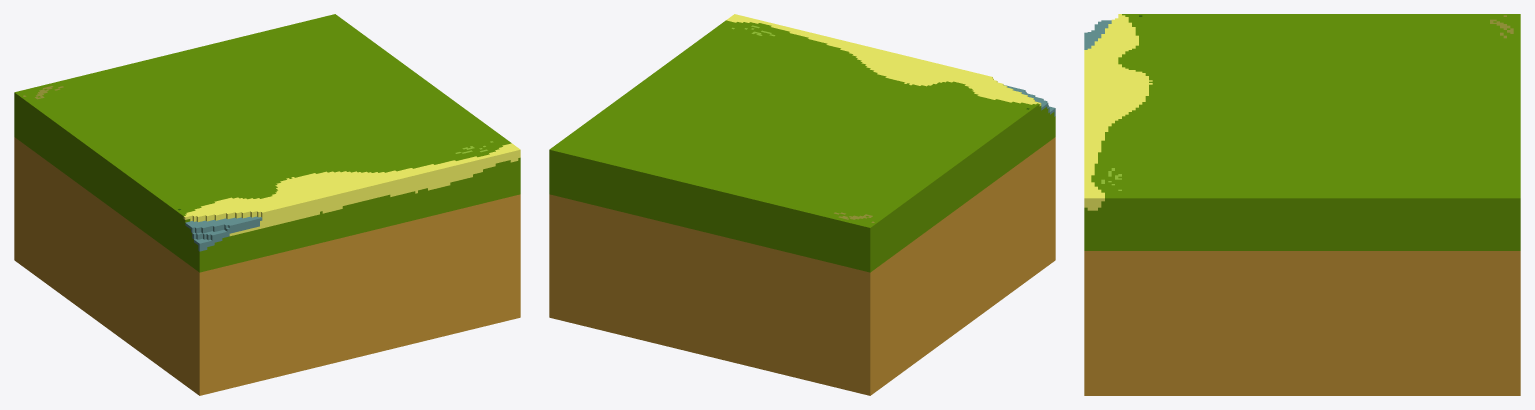
3 renders of one model, left to right at view 1: azimuth 30°, elevation 25°; view 2: azimuth 150°, elevation 25°; view 3: azimuth 270°, elevation 25°, orthographic. The views are drawn at different scales.
Parts seen in each view (by area): view 1: 10I; view 2: 10I; view 3: 10I.
Boxes of the visible parts, x1,y1,x2,y2 form: 10I: [14, 14, 520, 395]; 10I: [549, 14, 1055, 395]; 10I: [1084, 14, 1520, 395].
Bounding box in the file's own units: 12.8 × 6.4 × 12.8.
Materials: 1 (1 with a texture image).
